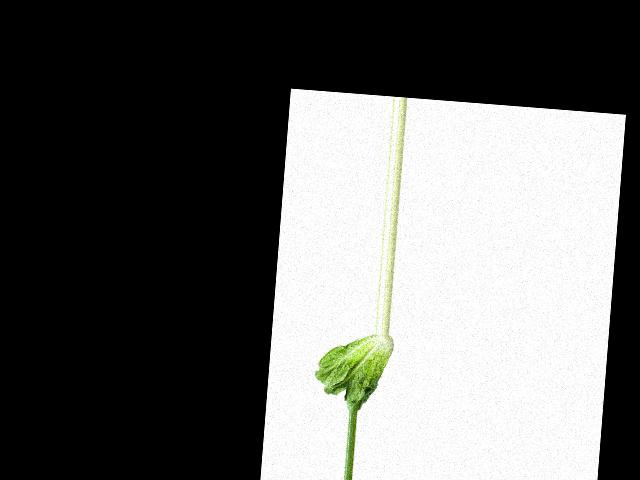lettuce: (311, 330, 395, 411)
